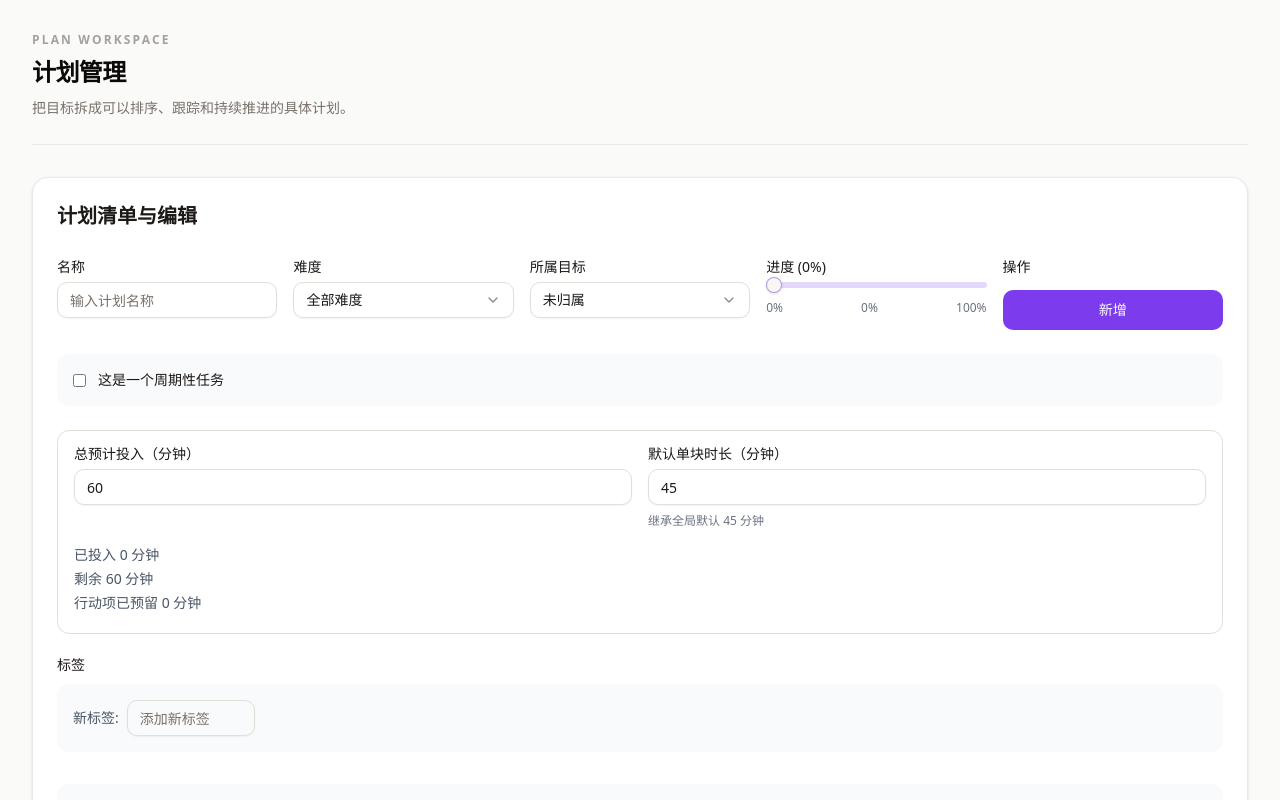
it: PlansPage › separates a successful write from a failed list refresh
Check: the heading "计划管理" is shown, box [32, 55, 126, 88]
Type "已保存计划" into the field labelled "名称". click: (167, 300)
box: [57, 282, 277, 318]
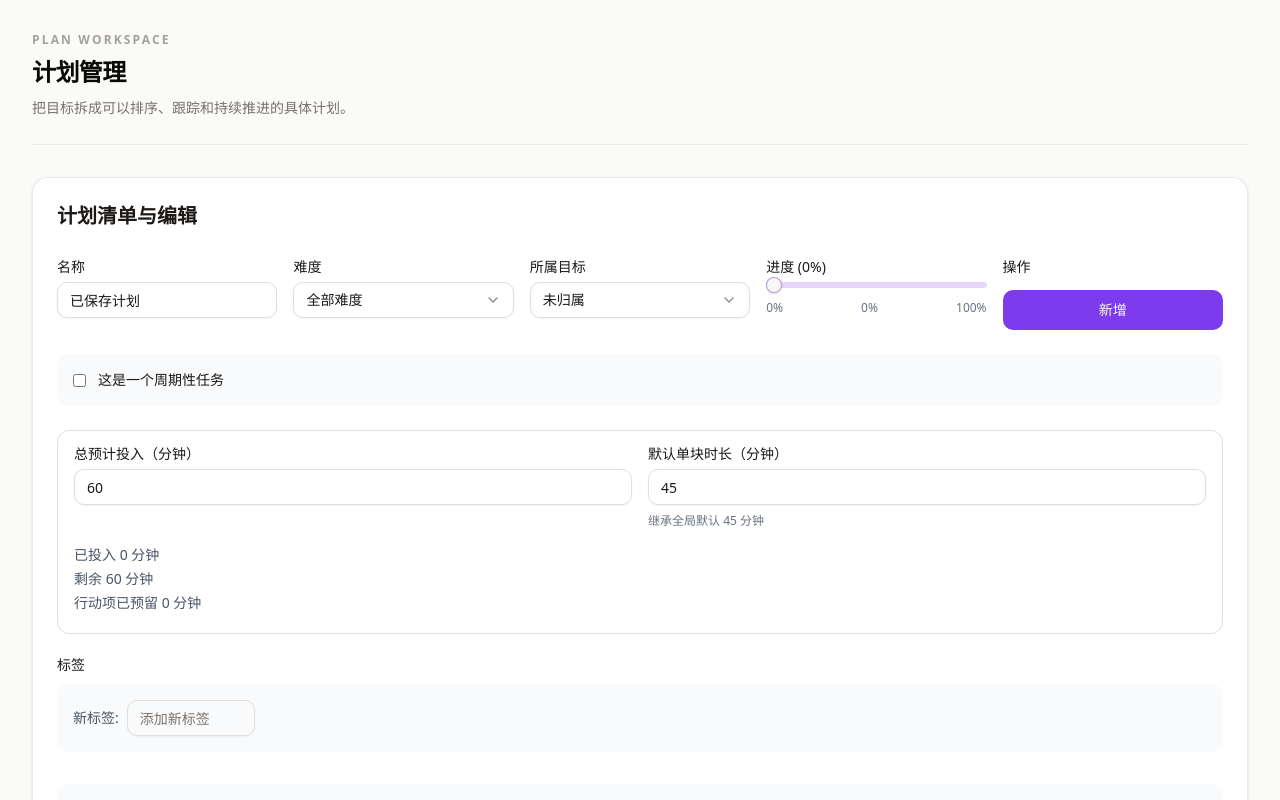
Click the button "新增". click: (1113, 310)
box: [1003, 290, 1223, 330]
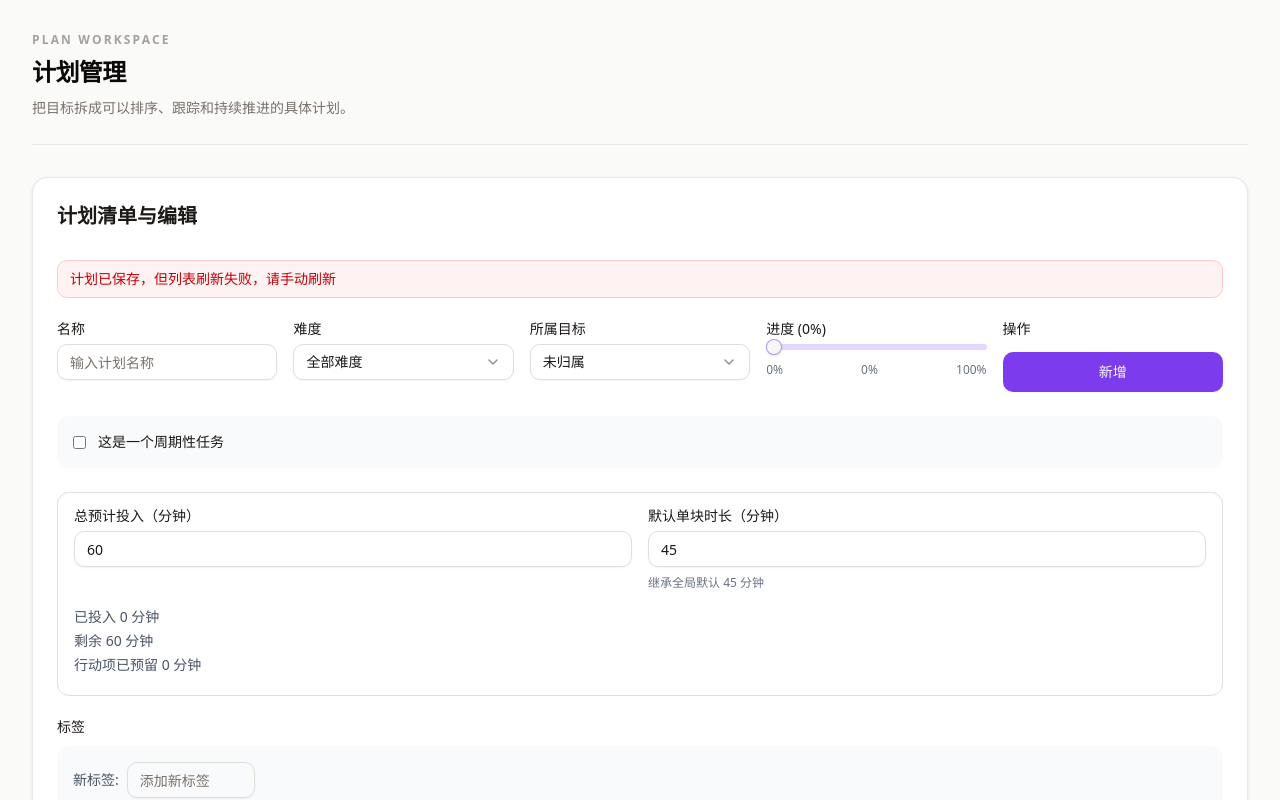
Check: the button "新增" is shown, box [1003, 352, 1223, 392]
Check: the message shows "已保存", box [57, 260, 1223, 298]
Check: the field labelled "名称" is empty, box [57, 344, 277, 380]
